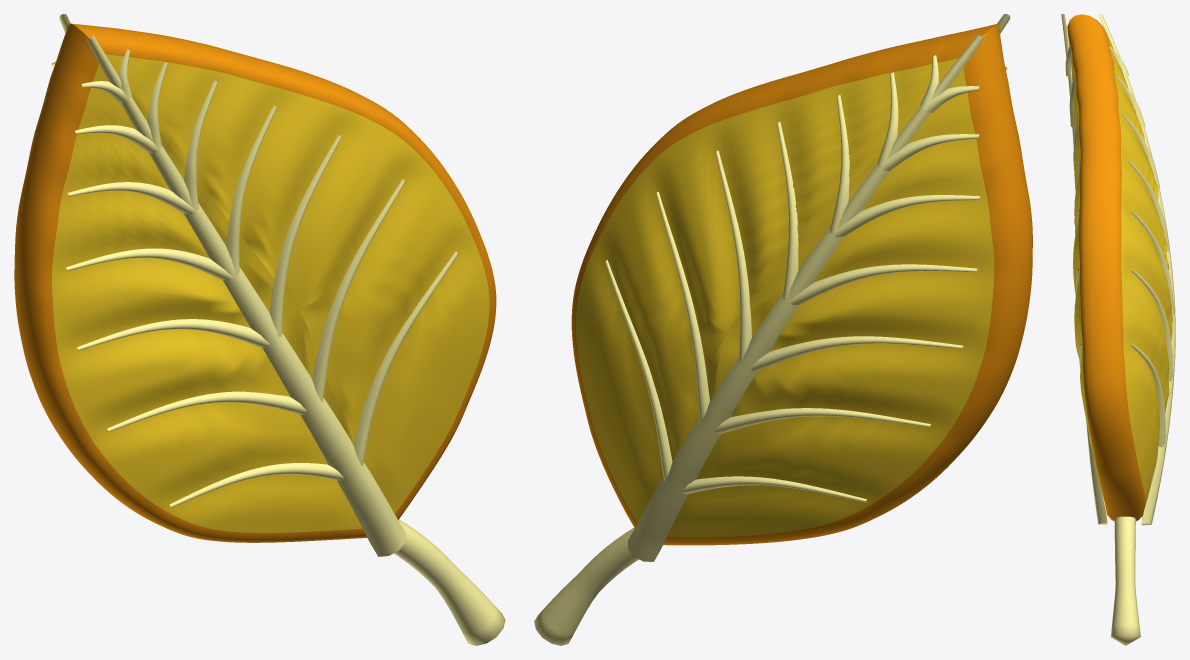
File: GoldenLeaf_HQ.fbx
3 renders of one model, left to right at view 1: azimuth 30°, elevation 25°; view 2: azimuth 150°, elevation 25°; view 3: azimuth 270°, elevation 25°, orthographic. The views are drawn at different scales.
Parts seen in each view (by area): view 1: GoldenLeaf_HQ; view 2: GoldenLeaf_HQ; view 3: GoldenLeaf_HQ.
Boxes of the visible parts, left/top/right/bottom form: GoldenLeaf_HQ: left=14, top=14, right=505, bottom=645; GoldenLeaf_HQ: left=534, top=14, right=1032, bottom=645; GoldenLeaf_HQ: left=1061, top=14, right=1175, bottom=645.
Bounding box in the file's own units: 0.6622 × 0.9362 × 0.1983.
